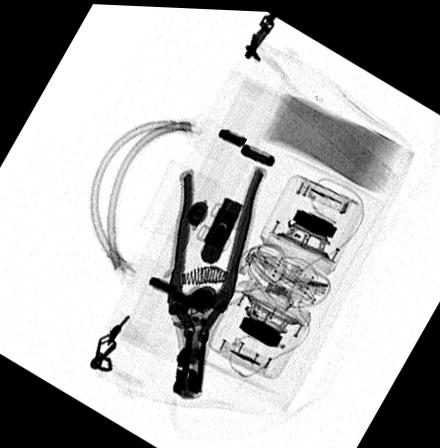Pliers: (166, 161, 267, 400)
